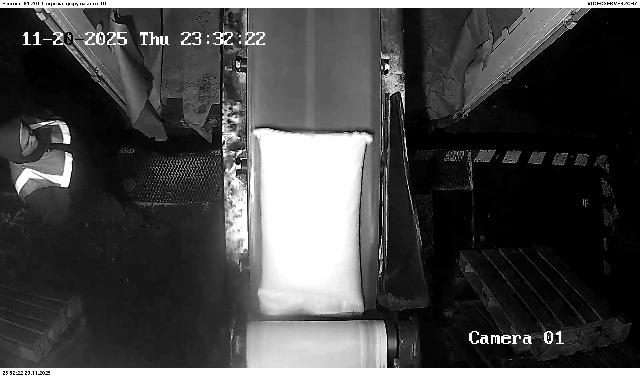bag: (254, 128, 374, 315)
